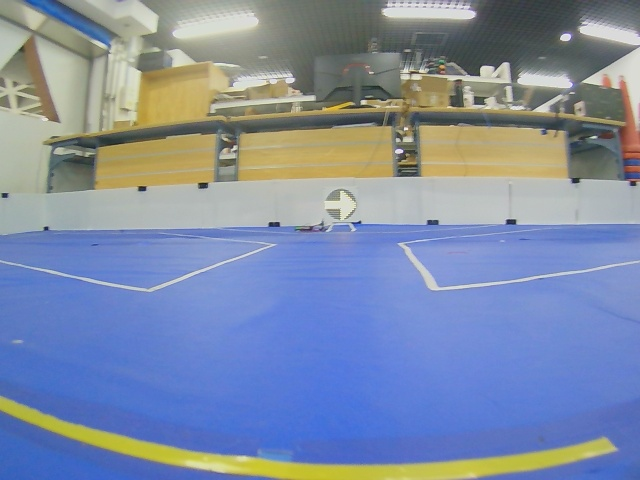right_yellow: (324, 189, 357, 221)
